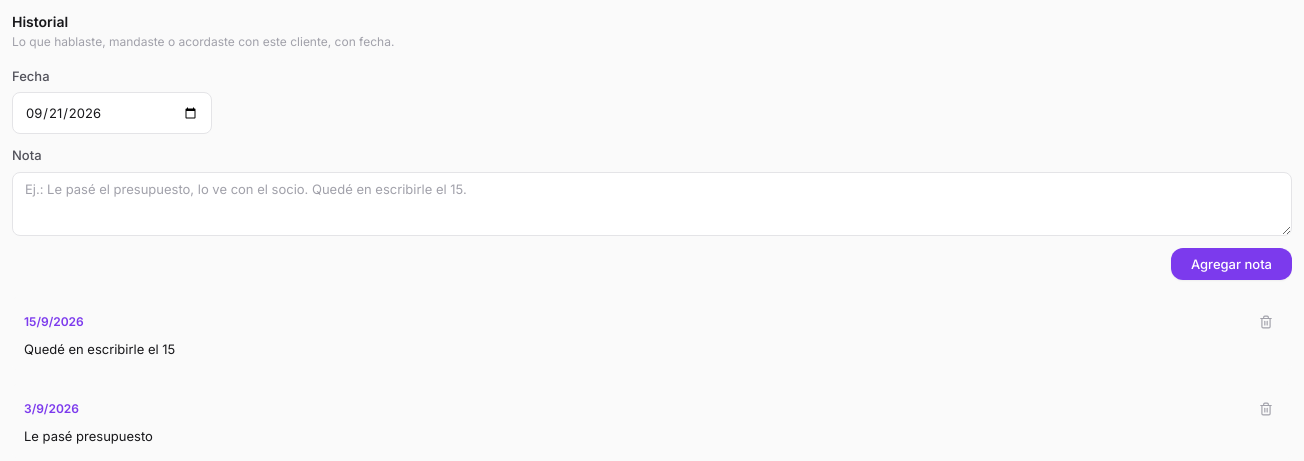
Test: ClientNotes — delete › deletes the note and removes it from the list once confirmed
The width and height of the screenshot is (1304, 461).
What coordinates should you click on to do the following:
click the button named "Eliminar" in the row of "15/9/2026"
I would click on:
 (1266, 322)
Its box is 1252,308 -> 1280,336.
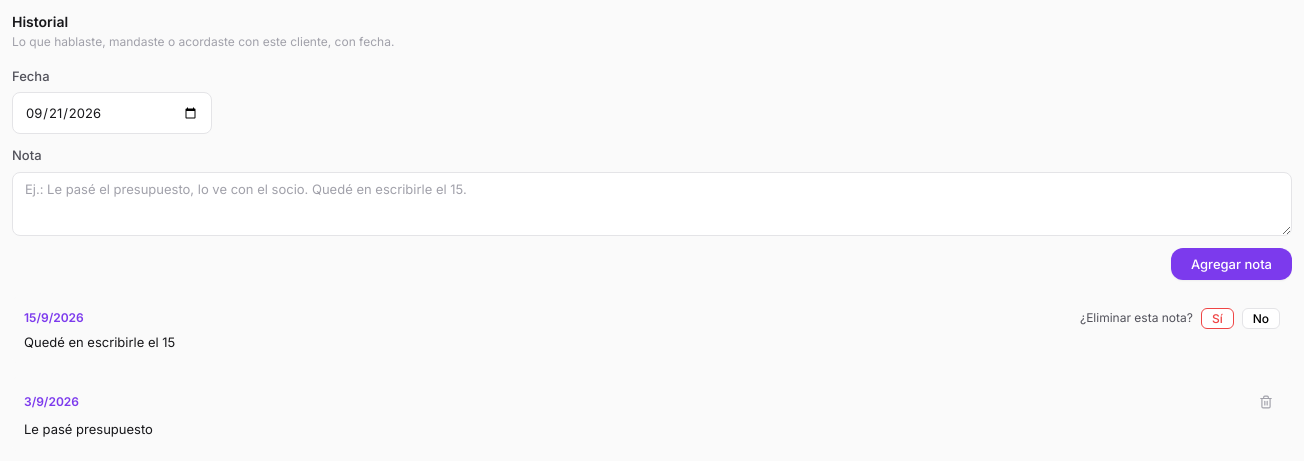
What coordinates should you click on to do the following:
click the button "Sí"
I would click on:
 (1217, 318)
Its box is 1201,308 -> 1234,328.
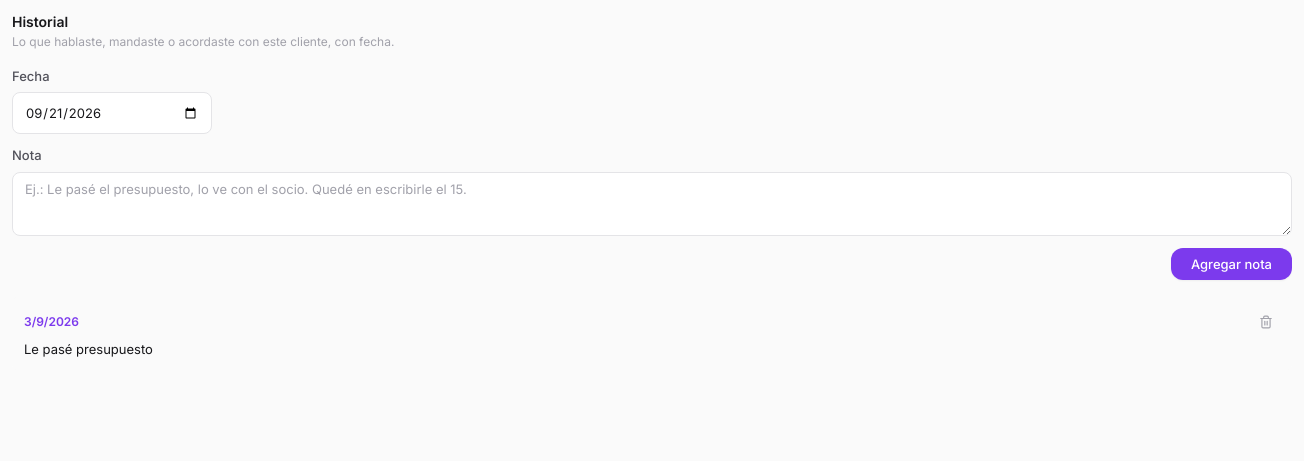
Expected: the number of list items is 1, 12,296 -> 1292,371
